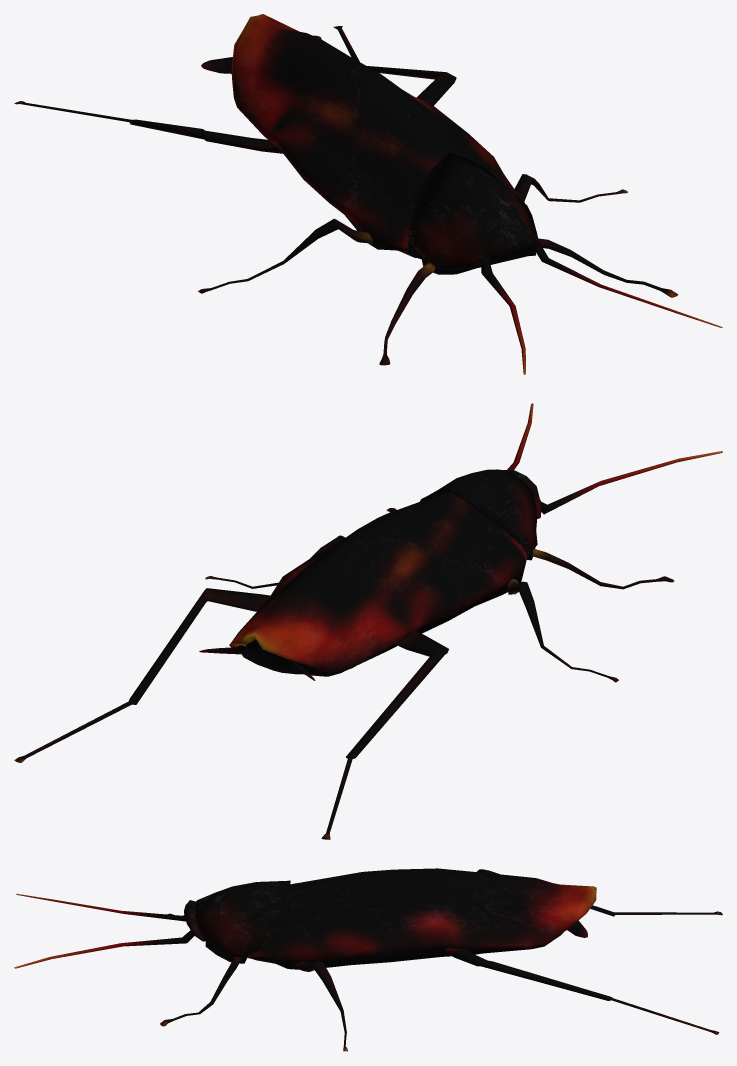
Rendered from cockroach.fbx.
3 views of the same model, one above another, from view 1: azimuth 30°, elevation 25°; view 2: azimuth 150°, elevation 25°; view 3: azimuth 270°, elevation 25° (orthographic). The views are drawn at different scales.
Parts seen in each view (by area): view 1: smokey_brown; view 2: smokey_brown; view 3: smokey_brown.
Part boxes in pixels (<box>): smokey_brown: <box>14,14,722,374</box>; smokey_brown: <box>14,403,722,839</box>; smokey_brown: <box>14,868,722,1051</box>.
Bounding box in the file's own units: 188 × 55.89 × 351.
Materials: 1 (1 with a texture image).
